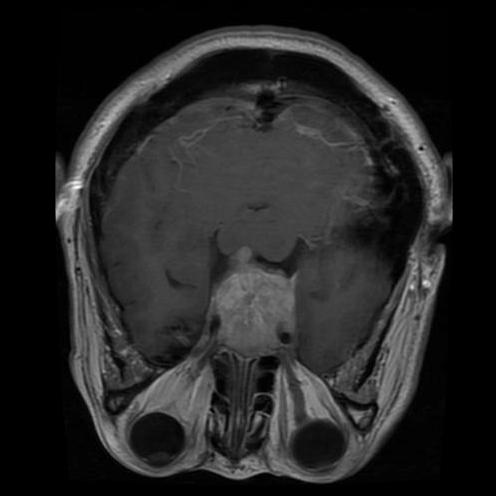Tumour-Pituitary: (194, 247, 312, 354)
